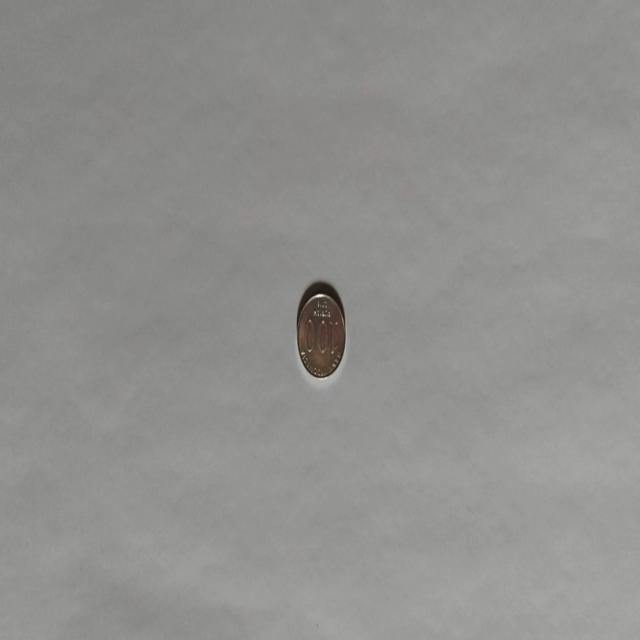seratus rupiah: (296, 288, 346, 380)
